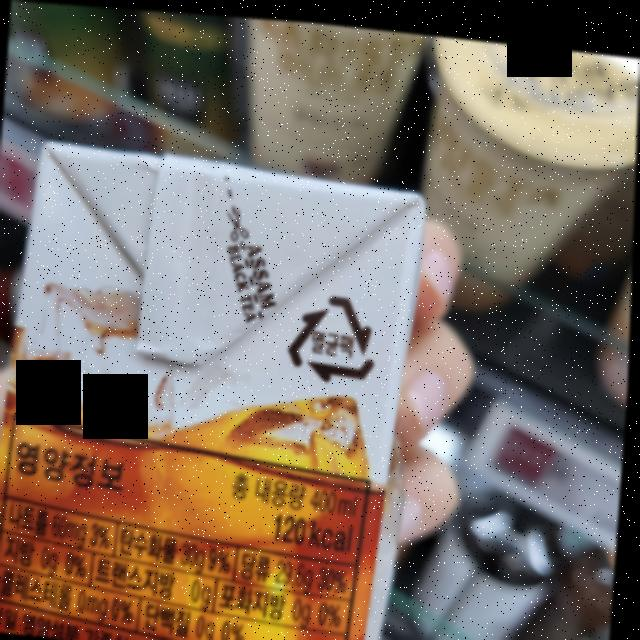SterilizedPack: (285, 278, 385, 387)
